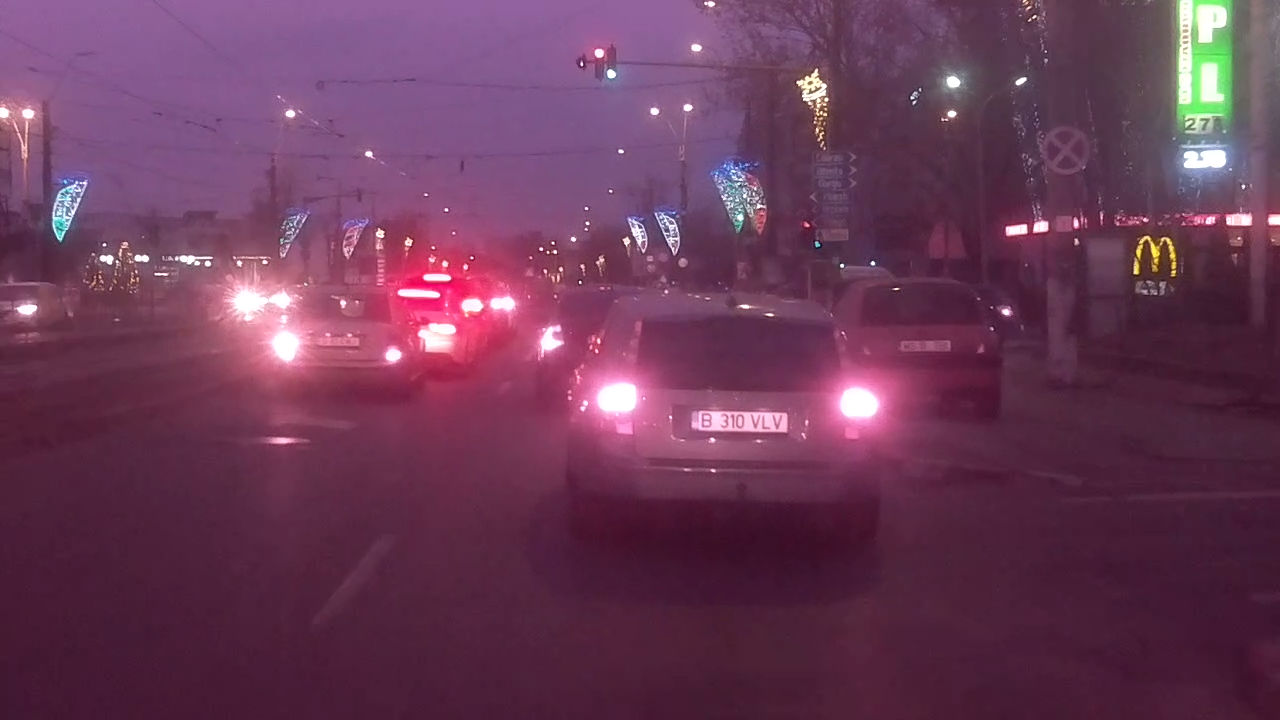license-plate: (685, 406, 794, 435)
